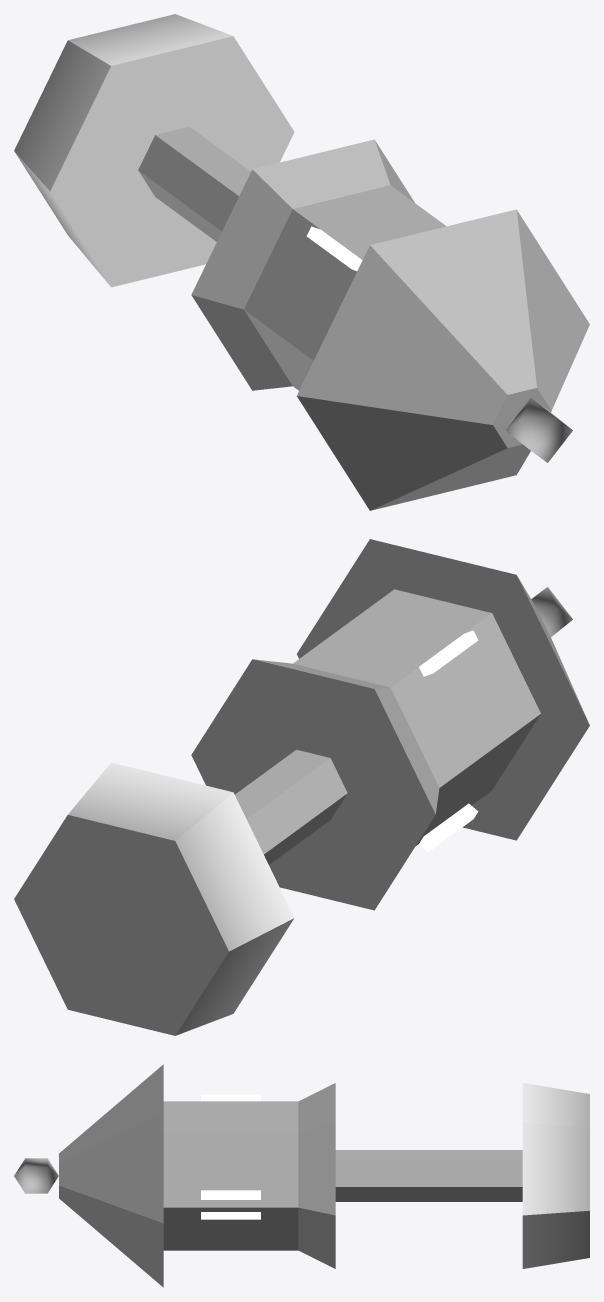
File: SM_Ishidoro_Tall.glb
The picture shows the model from 3 angles, top to bottom: view 1: azimuth 30°, elevation 25°; view 2: azimuth 150°, elevation 25°; view 3: azimuth 270°, elevation 25°; orthographic projection. The views are drawn at different scales.
Parts seen in each view (by area): view 1: asset_ishidoro_tall; view 2: asset_ishidoro_tall; view 3: asset_ishidoro_tall.
Part boxes in pixels (x1,y1,x2,y2): asset_ishidoro_tall: (14, 14, 589, 510); asset_ishidoro_tall: (14, 539, 589, 1035); asset_ishidoro_tall: (14, 1064, 589, 1287).
Size of the model in its own units: 0.6 by 0.5196 by 1.54.
2 materials, 2 textured.
